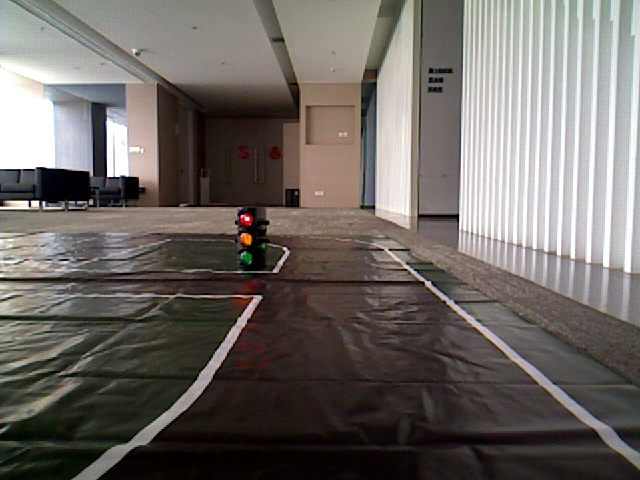red: (236, 211, 259, 266)
